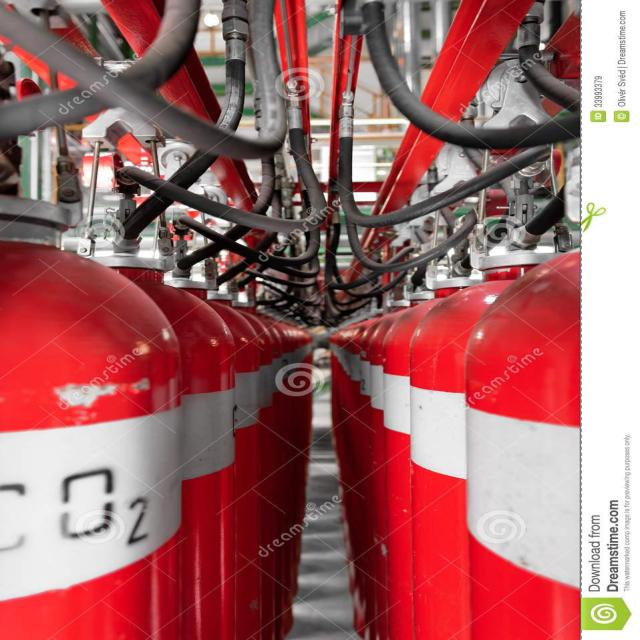fire_extinguisher: (0, 188, 198, 639), (398, 243, 581, 640), (63, 239, 244, 639), (456, 206, 595, 640)
